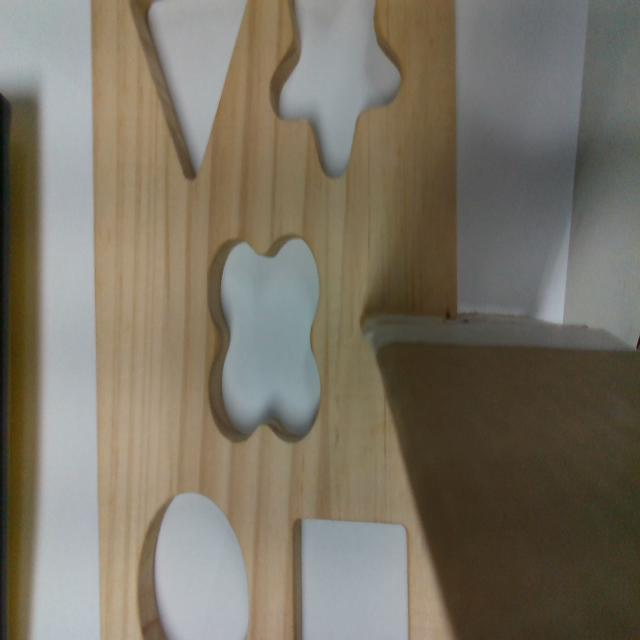circle: (134, 498, 251, 636)
flower: (206, 237, 320, 442)
square: (290, 515, 410, 637)
star: (268, 0, 405, 175)
triangle: (124, 2, 249, 182)
